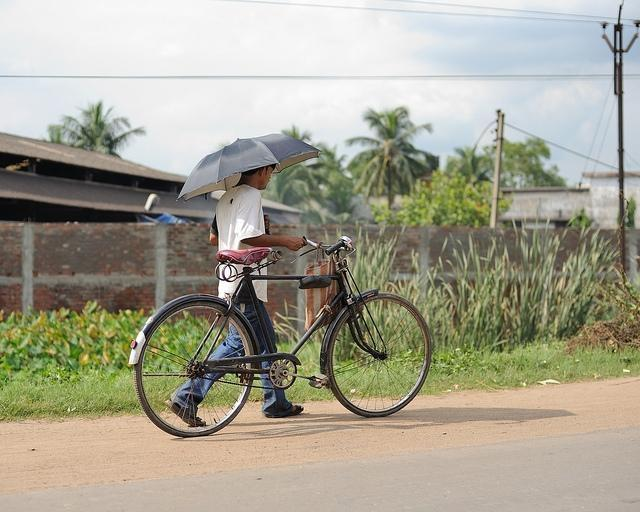bicycle: (126, 236, 438, 440)
